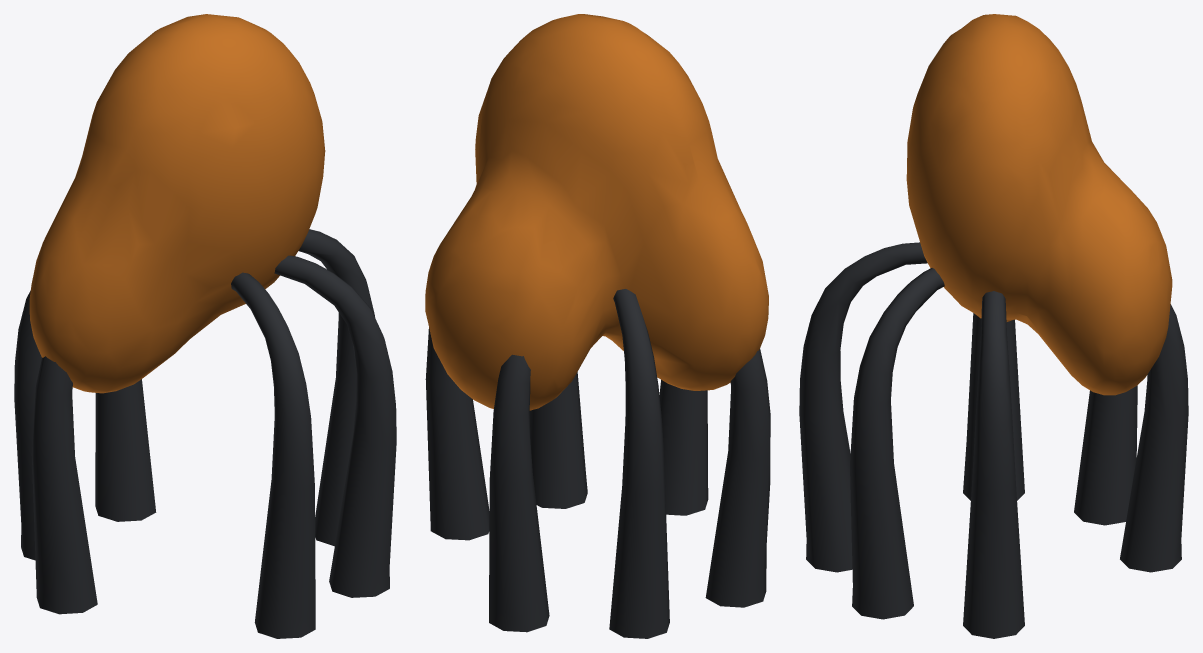
The model's file is cc0-tree-blob-lod1.glb.
3 renders of one model, left to right at view 1: azimuth 30°, elevation 25°; view 2: azimuth 150°, elevation 25°; view 3: azimuth 270°, elevation 25°, orthographic.
Visible parts, largest first — view 1: part_0; view 2: part_0; view 3: part_0.
Part boxes in pixels (left/top/right/bottom): part_0: left=14, top=14, right=396, bottom=638; part_0: left=425, top=14, right=770, bottom=638; part_0: left=799, top=14, right=1188, bottom=638.
Bounding box in the file's own units: 3.86 × 5.87 × 3.86.
Materials: 1 (1 with a texture image).
